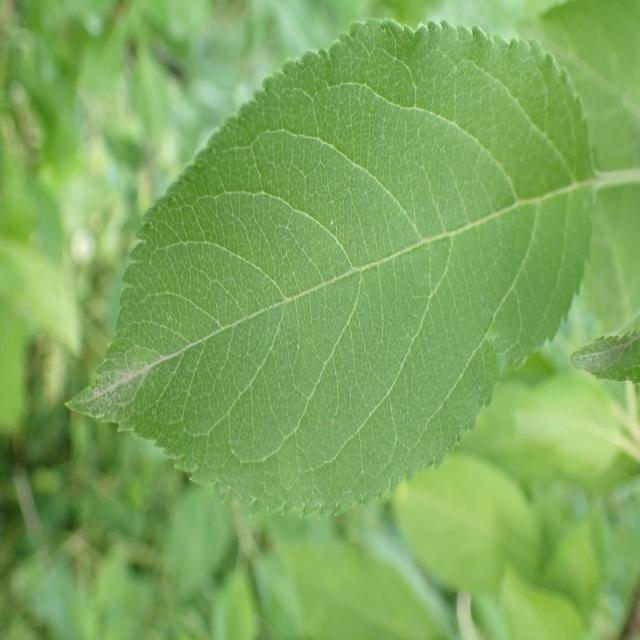healthy: (63, 17, 595, 520)
